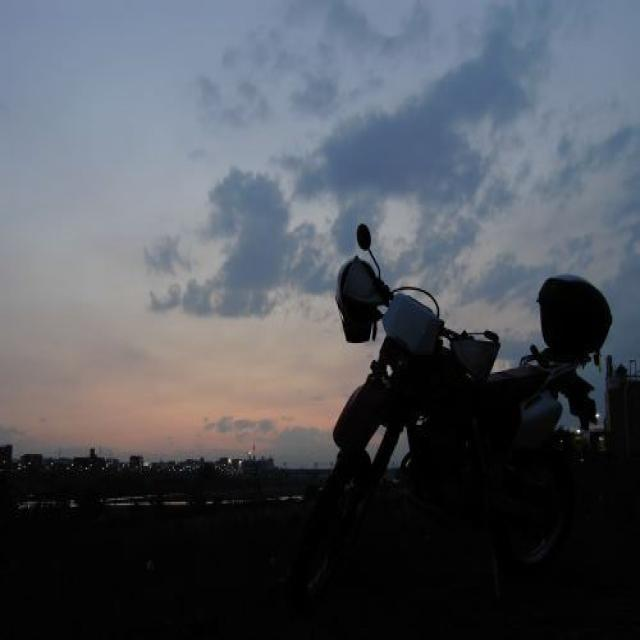Motorbike: (318, 231, 630, 588)
